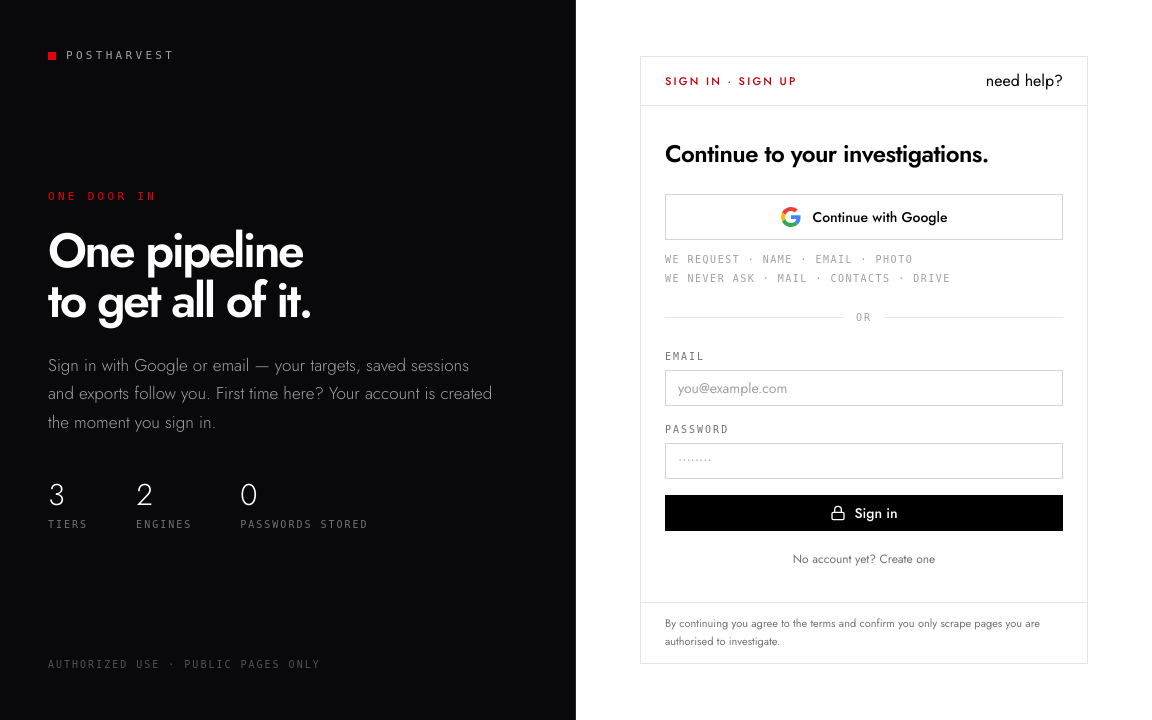
Scenario: SignInScreen › surfaces an error message when authentication fails
Type "agent@example.com" into the field labelled "Email" at (864, 388), box [665,370,1063,406]
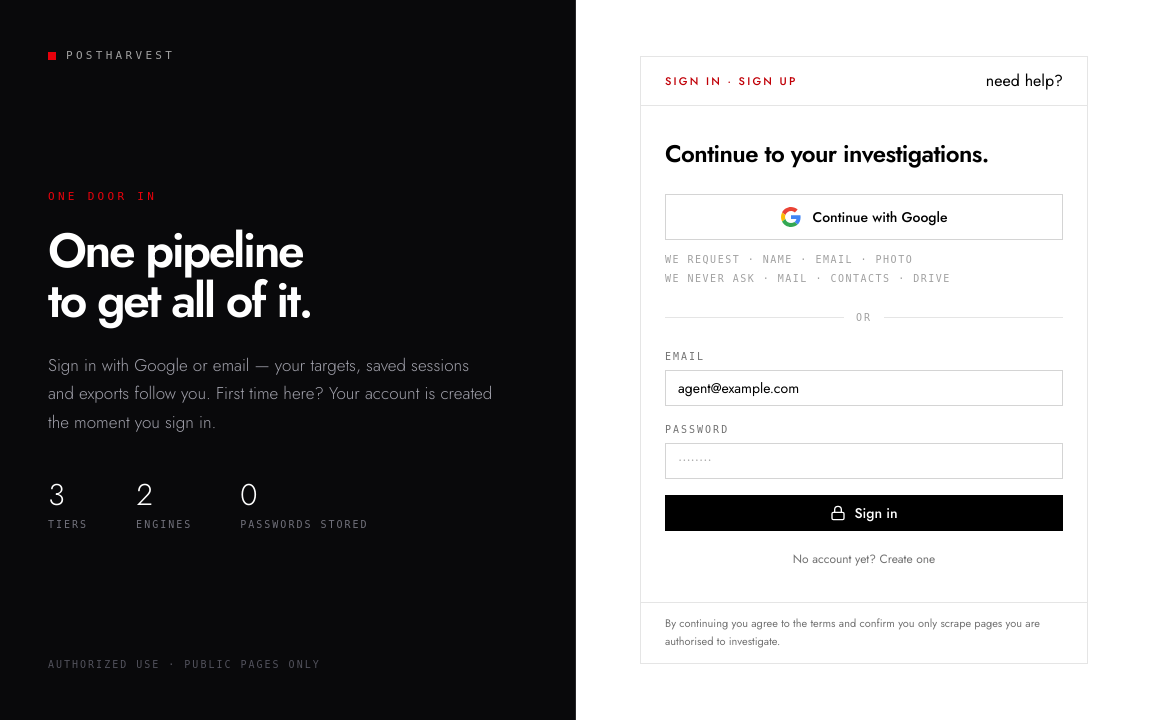
Type "wrong" into the password field labelled "Password" at (864, 461), box [665,443,1063,479]
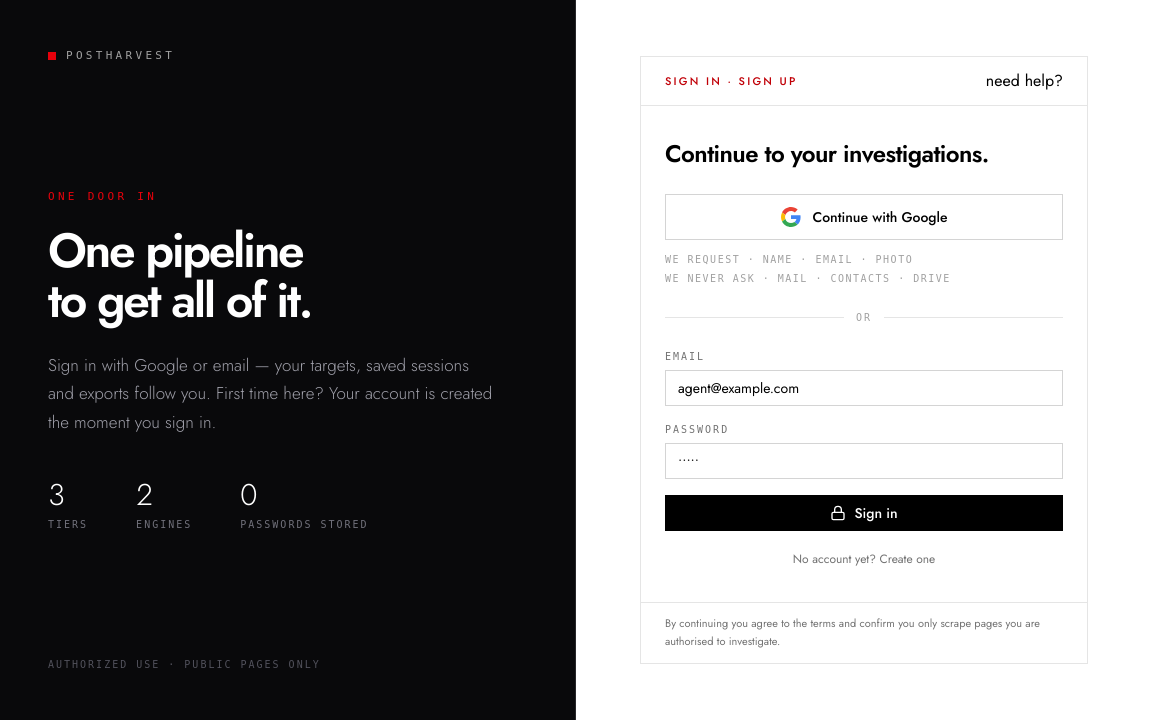
Click the button "Sign in" at (864, 513), box [665,495,1063,531]
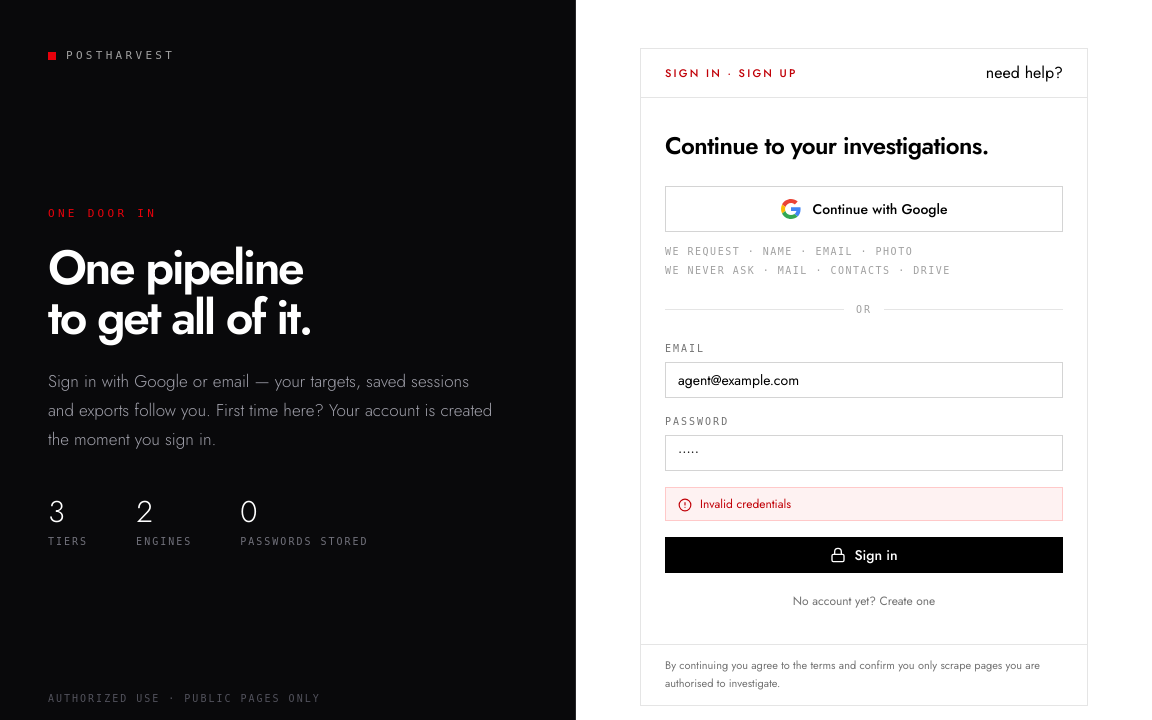
Result: the text "Invalid credentials" is shown at [700,496,791,512]
